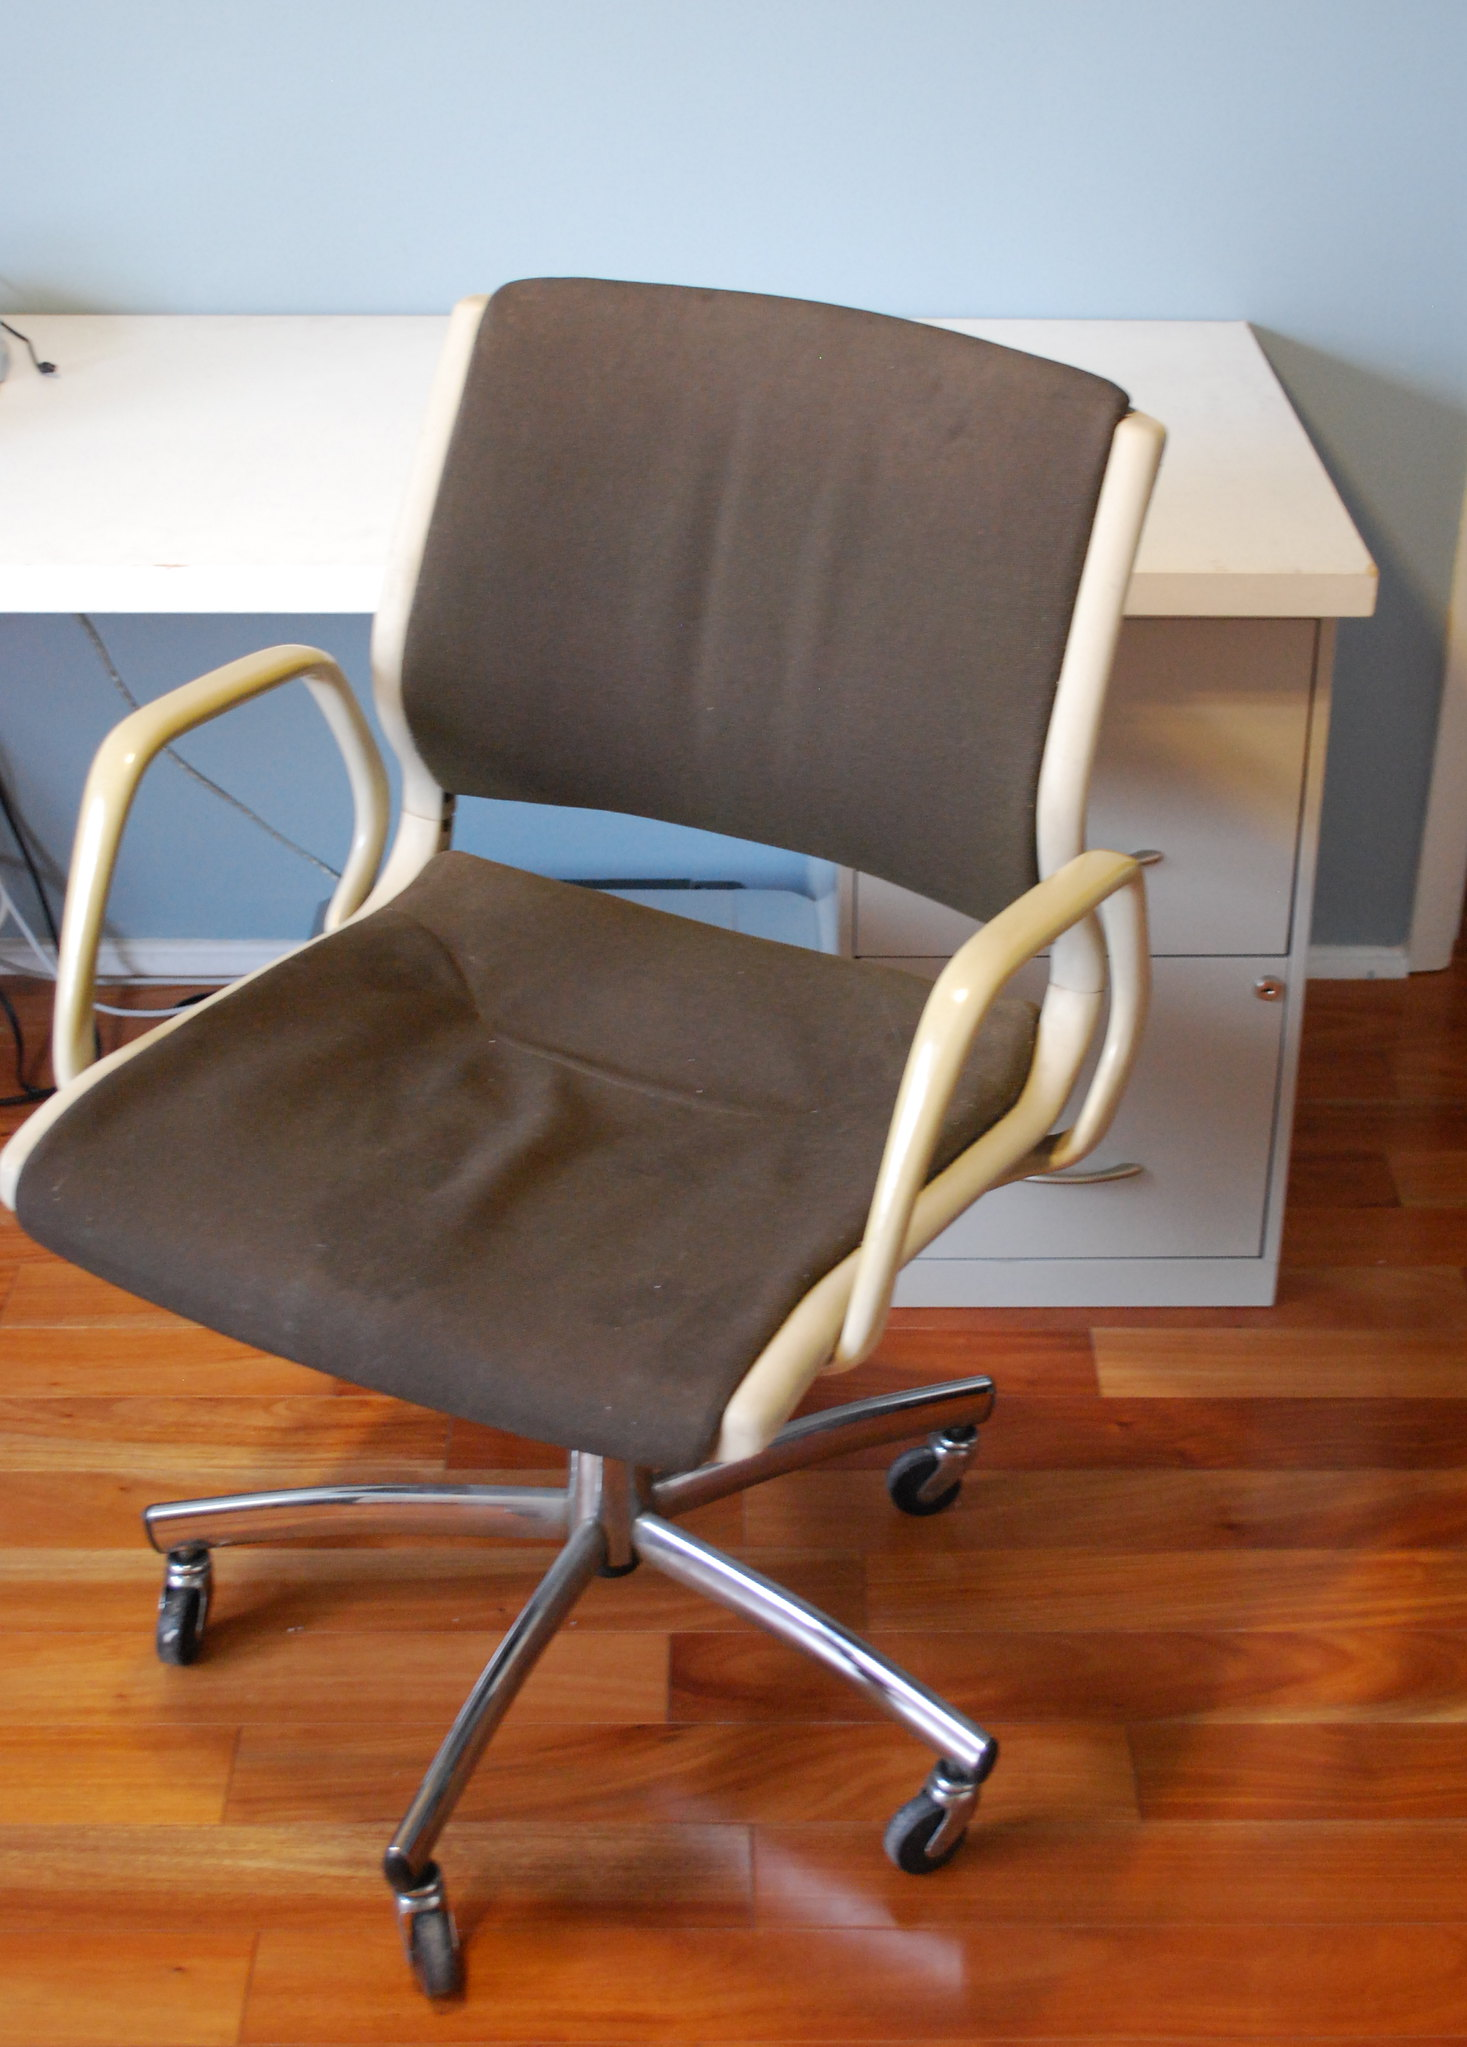chair: (8, 259, 1230, 1999)
